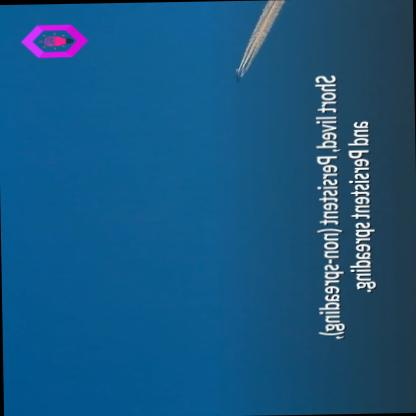plane: (228, 66, 248, 85)
